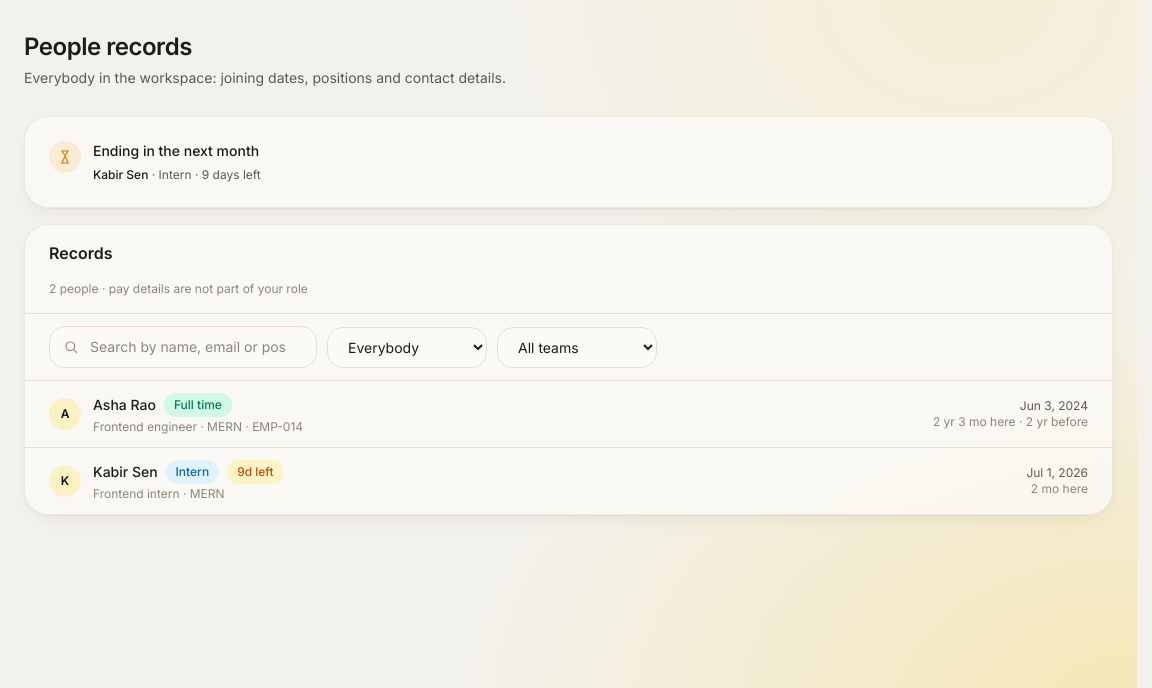
Test case: editing a record › opens to the whole record, with the internship window for an intern
What coordinates should you click on to do the following:
click the button "Kabir Sen"
I would click on:
 (65, 481)
Its box is [25,448,1112,514].
(page scrolled)
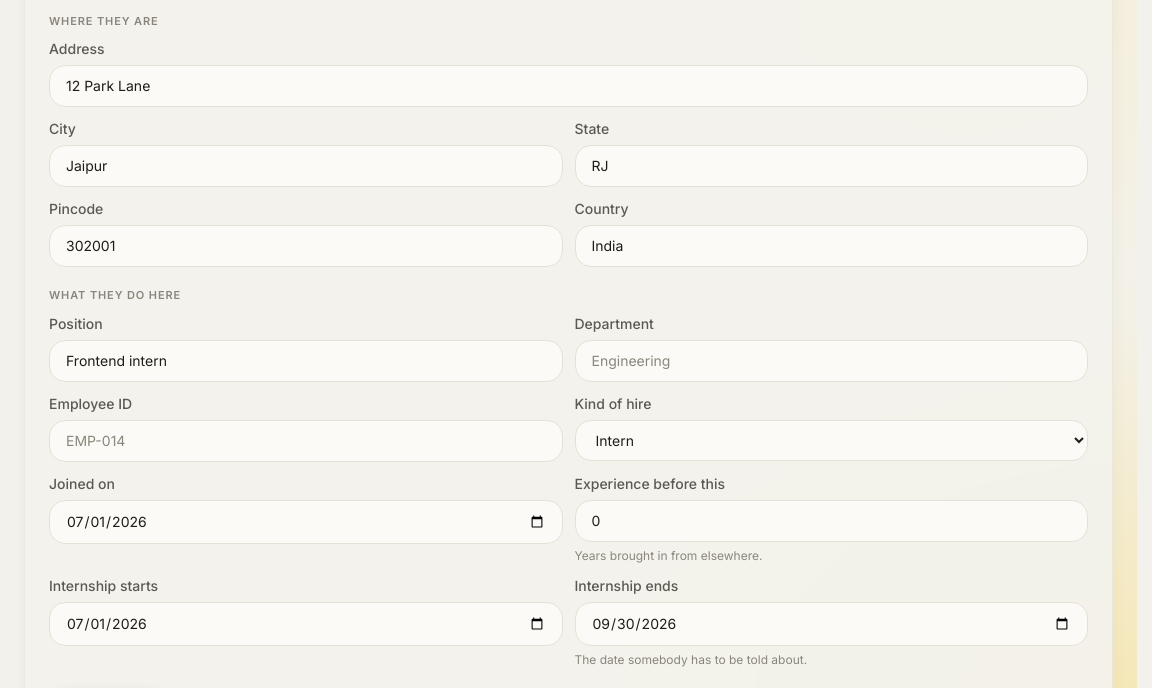
Expected: the date field labelled "Internship ends" is shown, [574,602,1088,646]
Expected: the field labelled "Position" holds "Frontend intern", [49,340,562,382]
